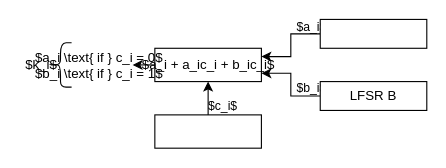
Image size: 446x168. Some labels were removed from this diagram. The centre of each missing label's shape, as x and y in pixels:
"LFSR A" belongs at pixel 373 33.
"Selector LFSR C" belongs at pixel 207 131.
